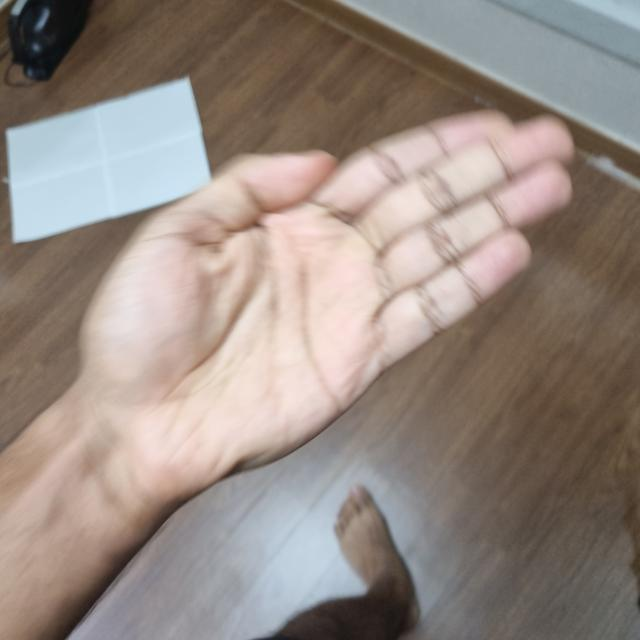Paper: (83, 161, 385, 490)
